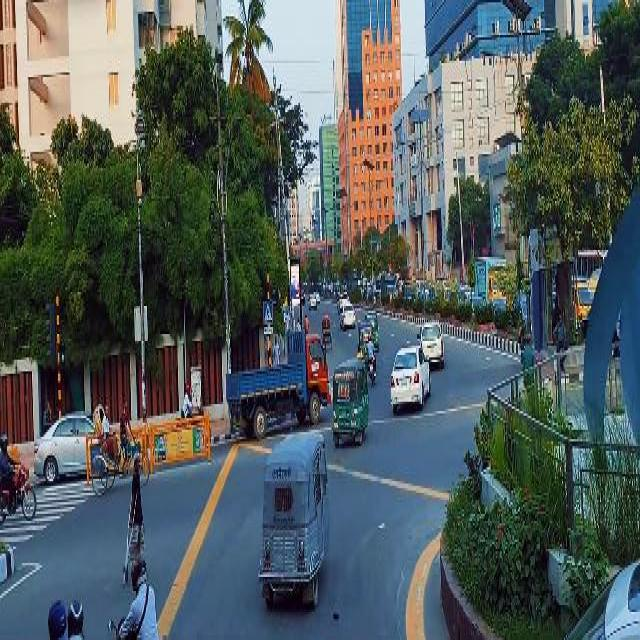bike: (1, 457, 37, 520)
vehicle: (256, 427, 332, 614), (224, 324, 332, 439), (87, 396, 151, 501), (32, 406, 98, 481), (332, 350, 370, 451), (390, 341, 434, 418), (417, 315, 446, 364), (364, 308, 381, 348), (321, 308, 334, 353), (339, 303, 358, 331), (359, 319, 374, 351)
